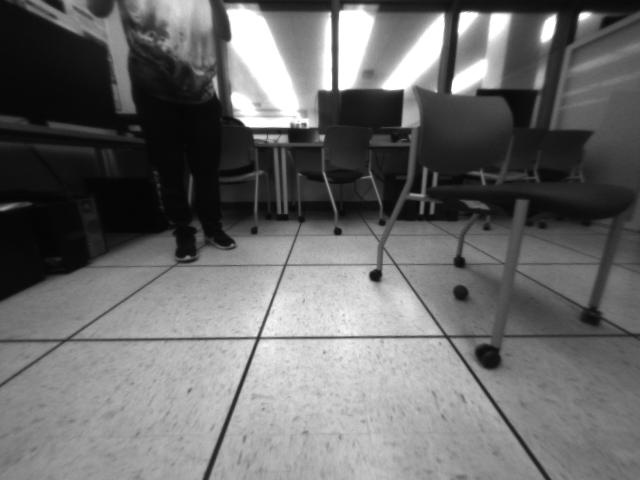dogtoy: (446, 280, 480, 307)
